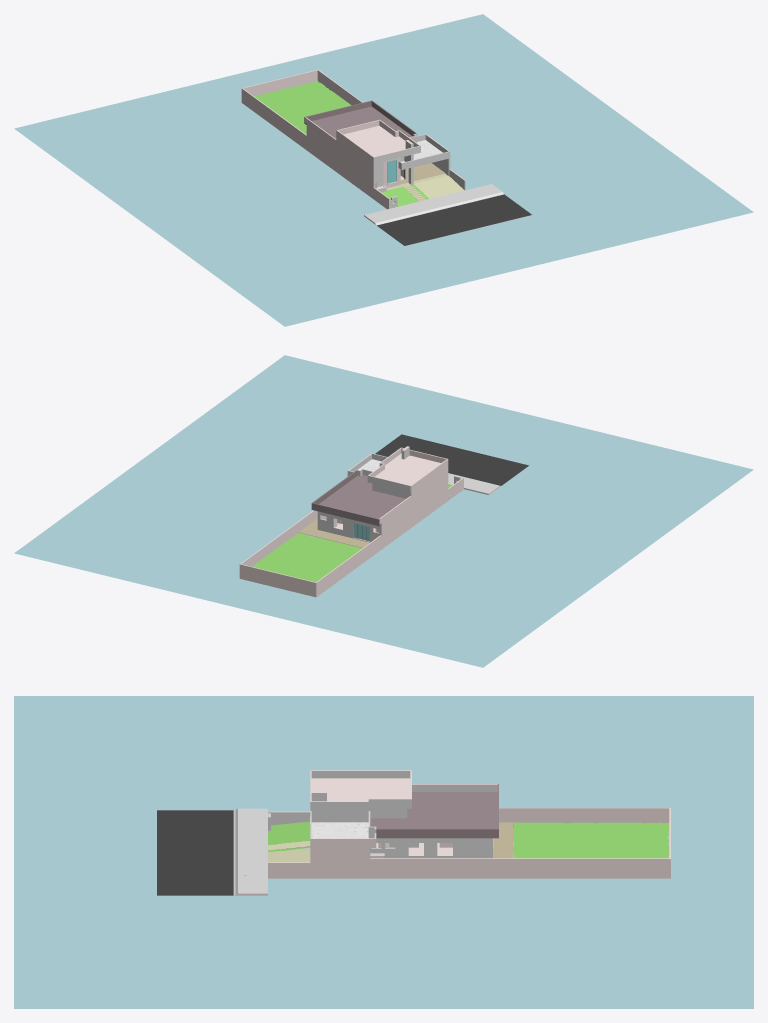
Rendered from projeto-lori.glb.
3 views of the same model, one above another, from view 1: azimuth 30°, elevation 25°; view 2: azimuth 150°, elevation 25°; view 3: azimuth 270°, elevation 25° (orthographic). The views are drawn at different scales.
Parts seen in each view (by area): view 1: ground, SketchUp, group_61.002, grass.001, roof.001, group_61, roof.003, SketchUp.077, roof.002; view 2: ground, SketchUp, grass.001, group_61.002, roof.003, roof.001, roof.002, SketchUp.007, ciment-floor; view 3: ground, SketchUp, group_61.002, grass.001, roof.003, group_61, SketchUp.010, roof.001, SketchUp.007, roof.002, roof.005, roof (+3 smaller).
Part boxes in pixels (<box>): ground: <box>14,14,753,326</box>; SketchUp: <box>241,69,465,209</box>; group_61.002: <box>377,194,531,245</box>; grass.001: <box>254,80,351,134</box>; roof.001: <box>337,119,420,157</box>; group_61: <box>364,184,502,222</box>; roof.003: <box>312,106,412,138</box>; SketchUp.077: <box>413,174,464,198</box>; roof.002: <box>304,100,416,136</box>; ground: <box>14,355,753,667</box>; SketchUp: <box>239,453,463,597</box>; grass.001: <box>252,532,361,582</box>; group_61.002: <box>375,434,528,485</box>; roof.003: <box>319,475,405,518</box>; roof.001: <box>368,447,447,492</box>; roof.002: <box>311,470,381,525</box>; SketchUp.007: <box>317,511,380,542</box>; ciment-floor: <box>299,518,369,547</box>; ground: <box>14,696,753,1008</box>; SketchUp: <box>268,770,670,878</box>; group_61.002: <box>157,810,233,895</box>; grass.001: <box>513,822,669,858</box>; roof.003: <box>370,792,497,828</box>; group_61: <box>237,808,267,893</box>; SketchUp.010: <box>311,771,497,847</box>; roof.001: <box>310,770,411,801</box>; SketchUp.007: <box>370,838,492,858</box>; roof.002: <box>376,784,498,838</box>; roof.005: <box>311,822,368,838</box>; roof: <box>310,799,411,810</box>.
Size of the model in its own units: 73.46 by 7 by 73.46.
